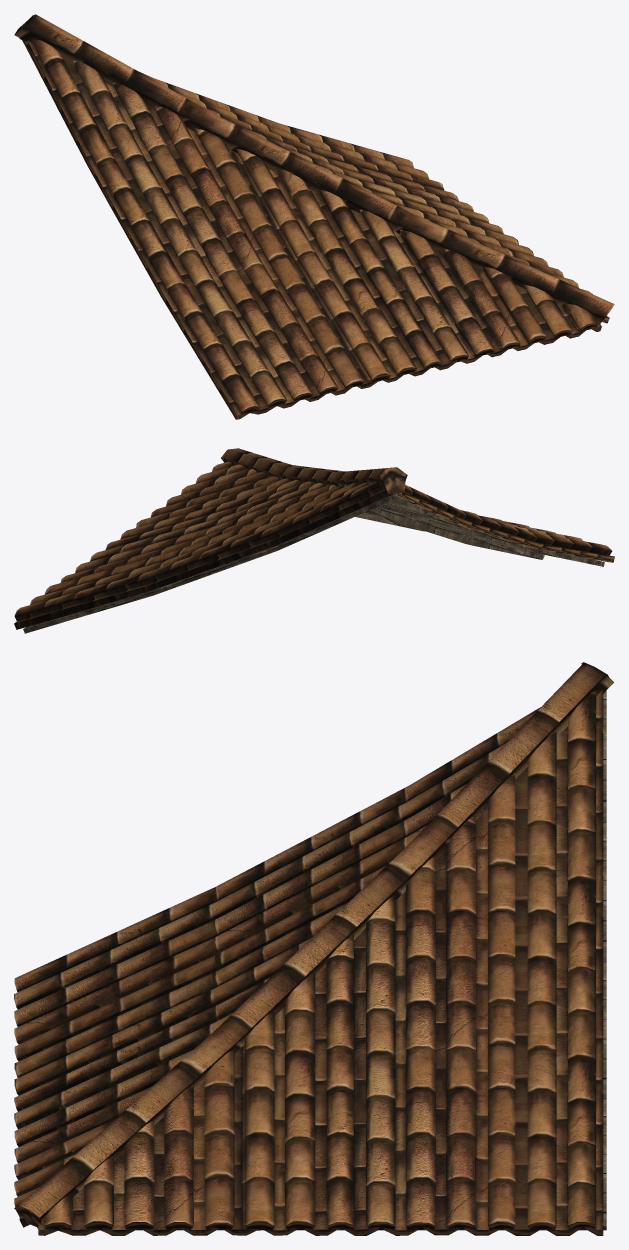
File: OldHouseRoofTileBeigeCorner2.obj
3 renders of one model, top to bottom at view 1: azimuth 30°, elevation 25°; view 2: azimuth 150°, elevation 25°; view 3: azimuth 270°, elevation 25°, orthographic. The views are drawn at different scales.
Visible parts, largest first — view 1: Line02, Line01, Line03, Object01; view 2: Line03, Line02, Box06, Line01, Box11, Object03; view 3: Line03, Line02, Line01, Object02, Box11.
Part boxes in pixels (x1,y1,x2,y2): Line02: (22,39,601,419); Line01: (15,14,614,323); Line03: (140,72,609,323); Object01: (236,323,601,419); Line03: (14,461,392,629); Line02: (393,485,614,562); Box06: (355,495,604,566); Line01: (223,448,394,494); Box11: (23,494,393,633); Object03: (221,449,407,493); Line03: (38,689,603,1234); Line02: (14,707,540,1227); Line01: (19,662,613,1224); Object02: (38,1221,603,1235); Box11: (136,690,606,1230).
Size of the model in its own units: 4.49 by 2.76 by 4.46.
Materials: 3 (3 with a texture image).
